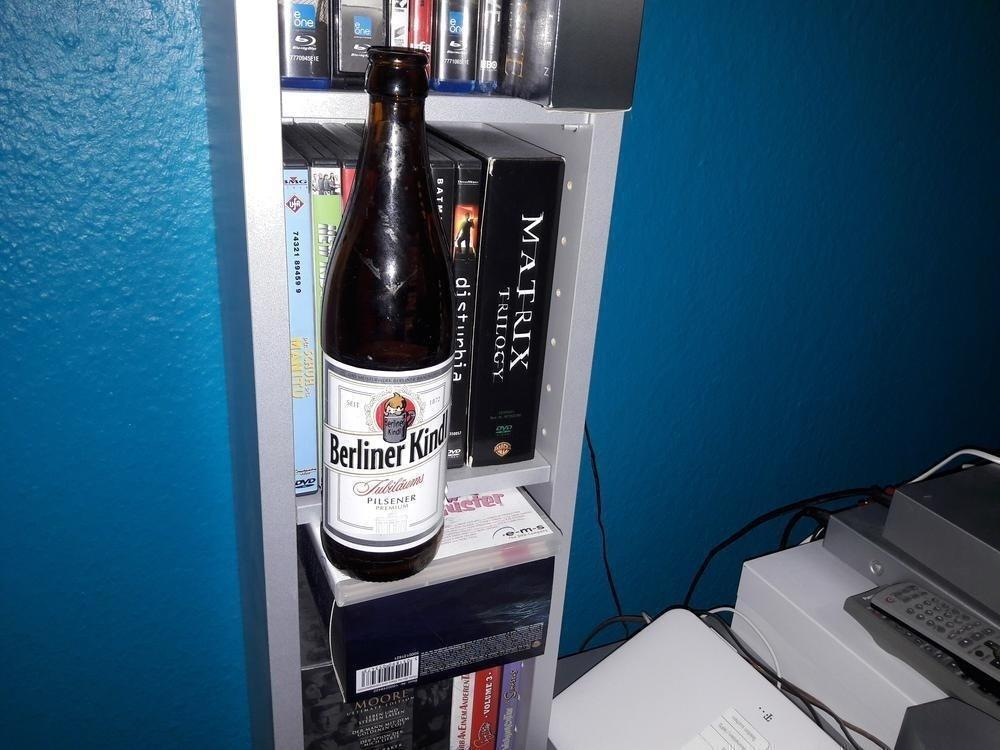bottle-glass: (319, 46, 457, 584)
